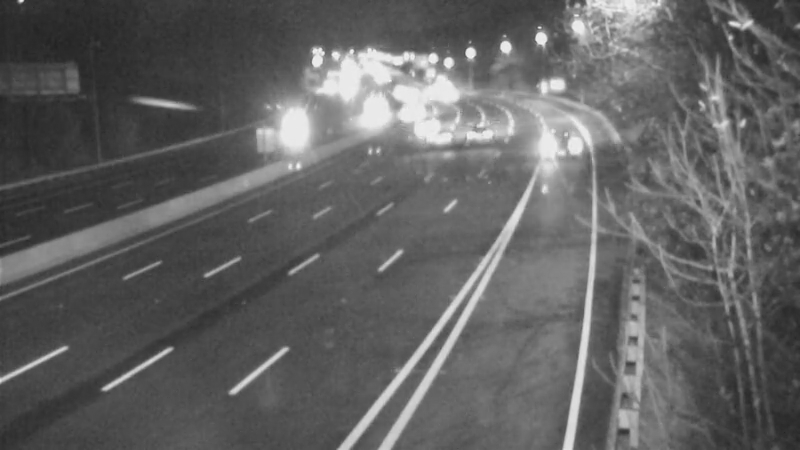vehicle: (384, 82, 434, 132), (393, 96, 443, 146), (452, 107, 502, 157), (411, 113, 461, 163), (522, 108, 572, 158), (269, 105, 319, 155), (341, 89, 391, 139)
